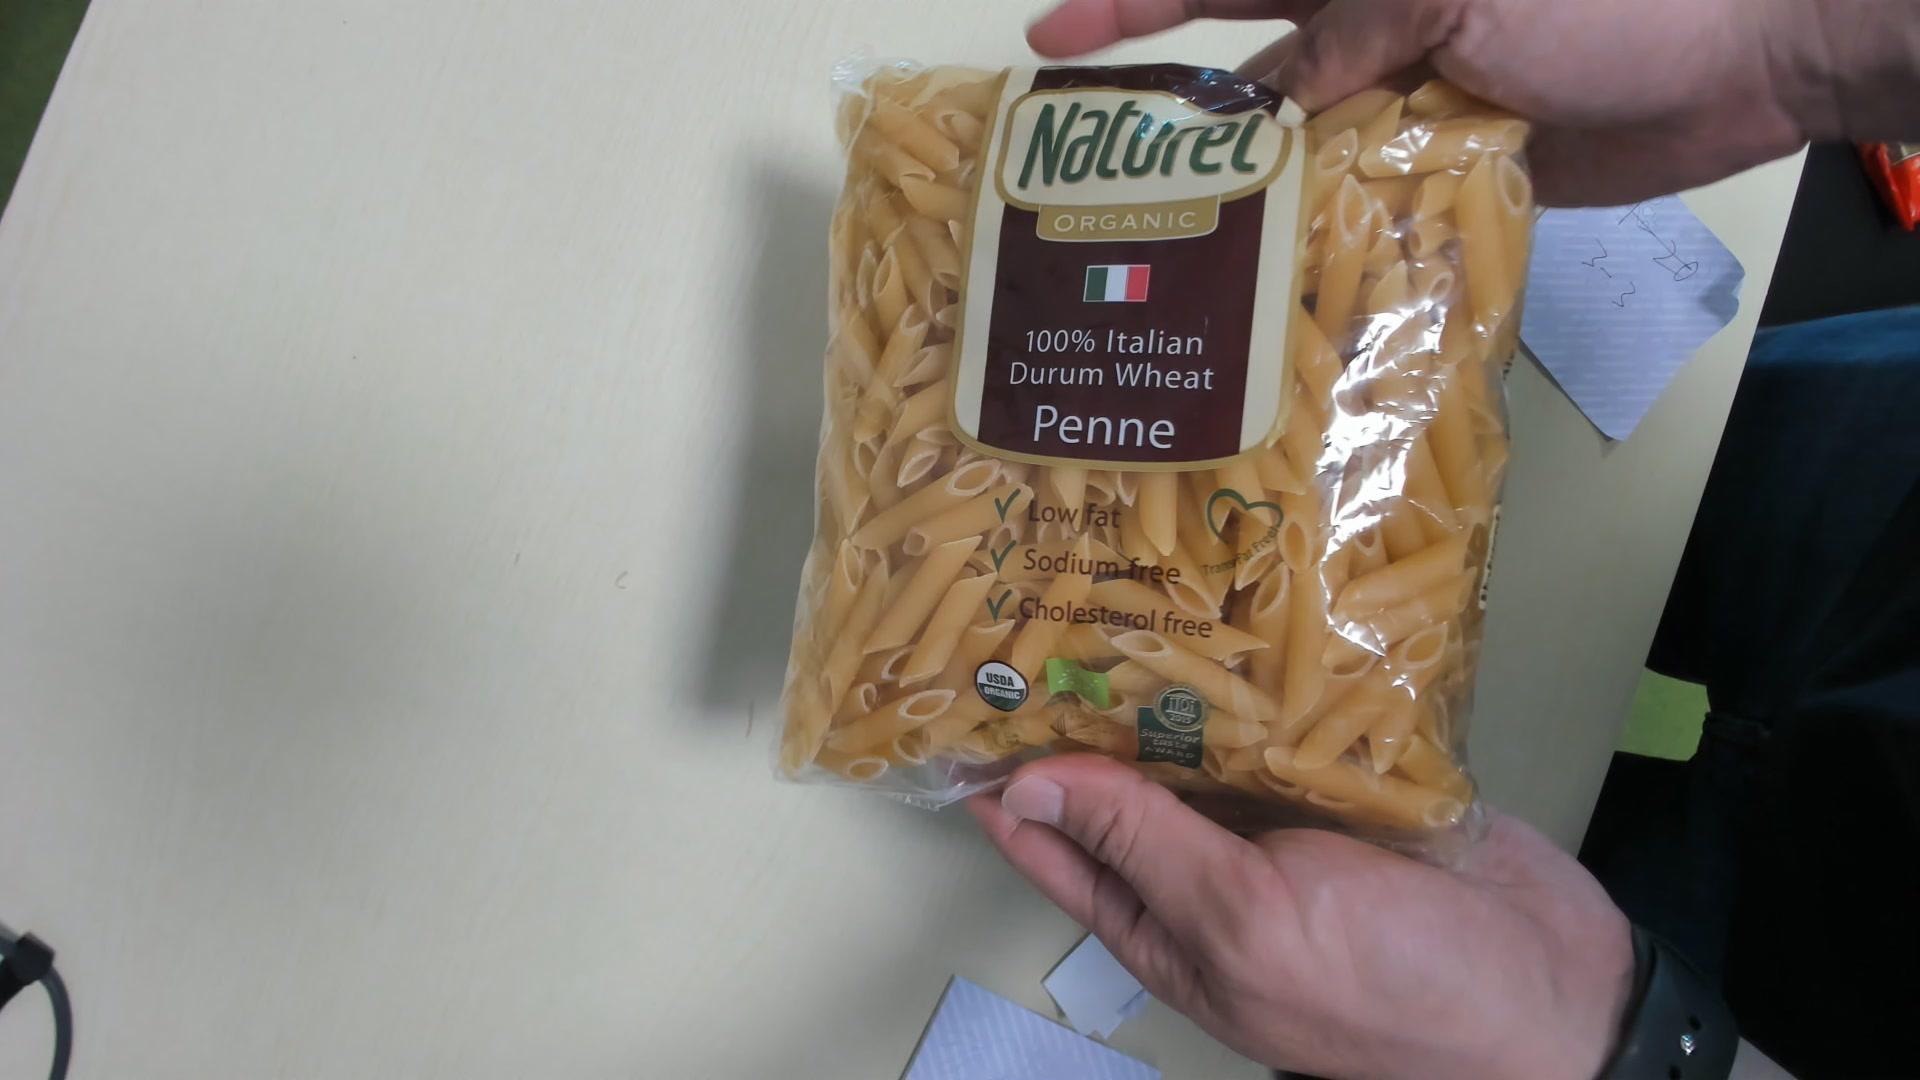Pasta_500-599g_Halal_NonHealthy: (800, 69, 1513, 845)
